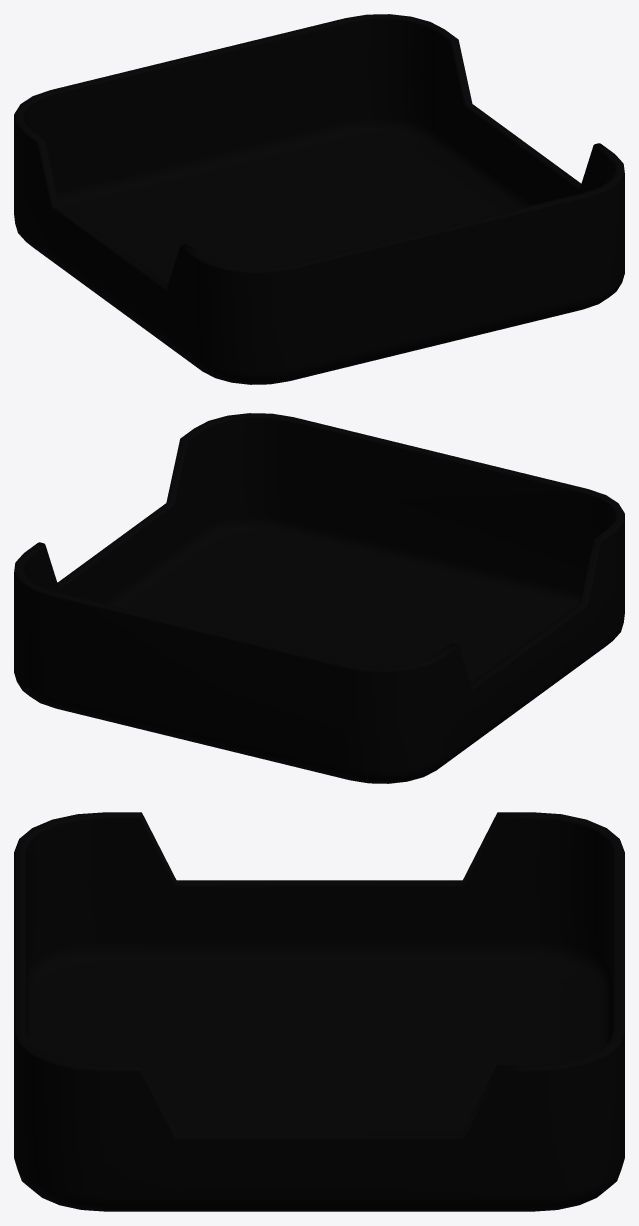
Rendered from black_plate.fbx.
3 views of the same model, one above another, from view 1: azimuth 30°, elevation 25°; view 2: azimuth 150°, elevation 25°; view 3: azimuth 270°, elevation 25° (orthographic). The views are drawn at different scales.
Visible parts, largest first — view 1: tray_02_1; view 2: tray_02_1; view 3: tray_02_1.
Boxes of the visible parts, box(x1,y1,x2,y2) form: tray_02_1: box(14, 14, 624, 384); tray_02_1: box(14, 413, 624, 783); tray_02_1: box(14, 812, 624, 1211).
Size of the model in its own units: 178 by 48.58 by 178.
